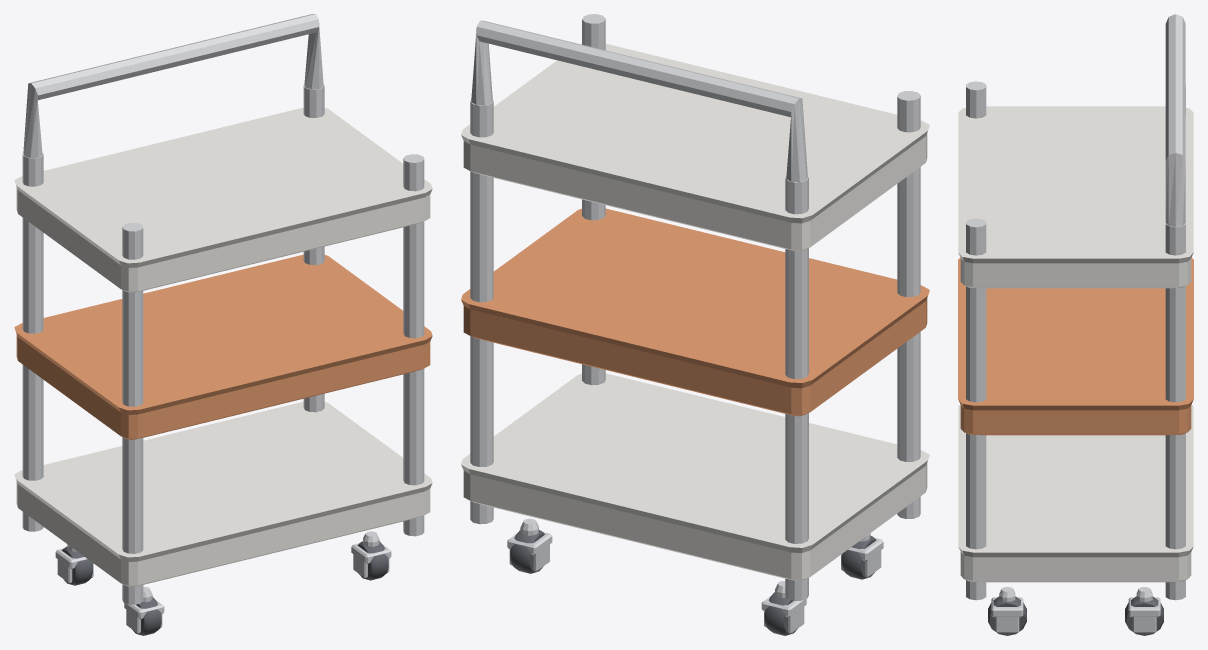
File: downtown-office-interiors-stationery-trolley-52fd2758__17011.glb
The picture shows the model from 3 angles, left to right: view 1: azimuth 30°, elevation 25°; view 2: azimuth 150°, elevation 25°; view 3: azimuth 270°, elevation 25°; orthographic projection. The views are drawn at different scales.
Parts seen in each view (by area): view 1: stationery-trolley; view 2: stationery-trolley; view 3: stationery-trolley.
Part boxes in pixels (x1,y1,x2,y2): stationery-trolley: (14,14,432,635); stationery-trolley: (461,14,929,635); stationery-trolley: (958,14,1193,635).
Size of the model in its own units: 0.578 by 0.8757 by 0.378.
